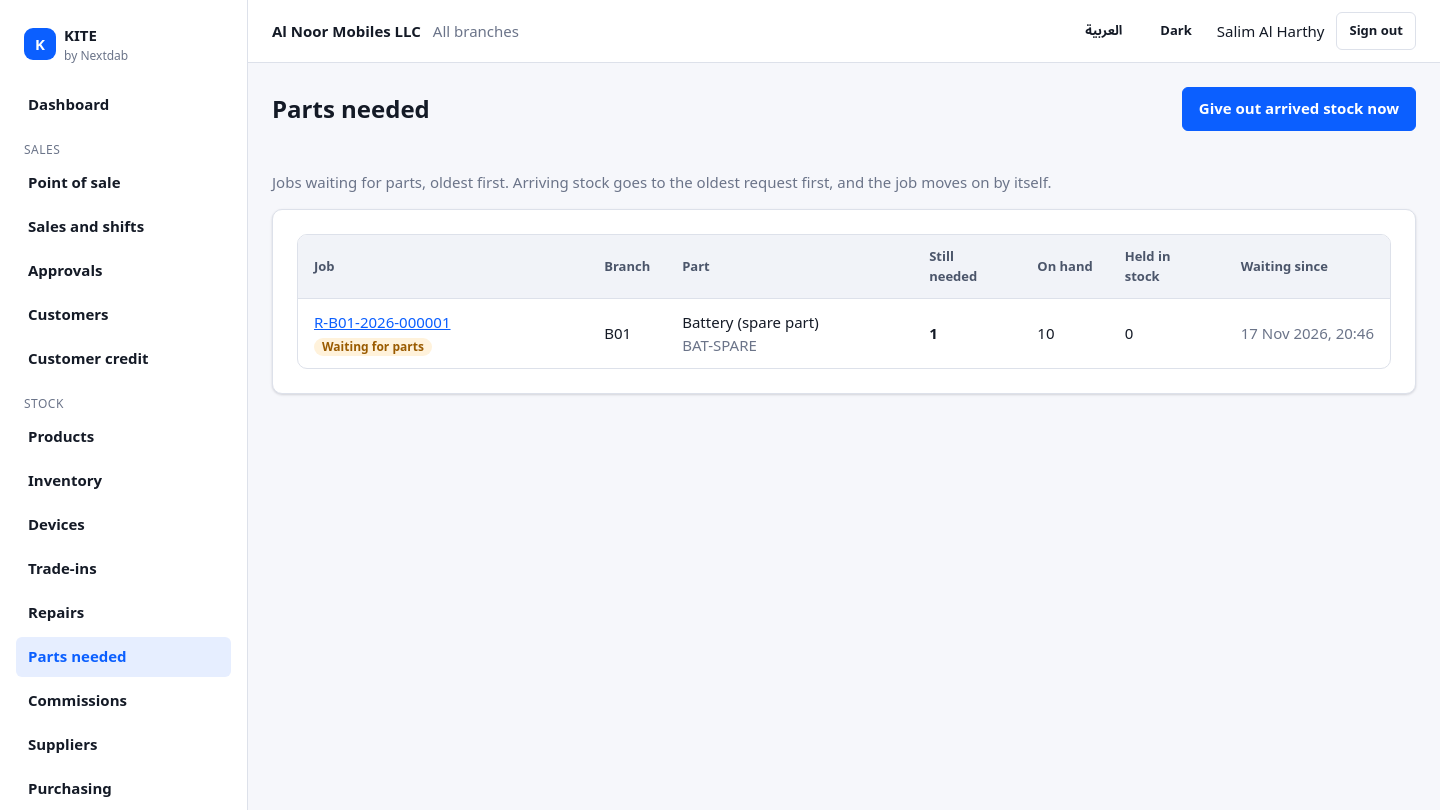
Test: parts on repair jobs (Phase 9) › a job short of parts waits for them, is listed as needing parts, and moves on when they arrive
The width and height of the screenshot is (1440, 810).
Later steps or results of the test are not shown.
Expected: the heading "Parts needed" is shown, top-left (272, 94), bottom-right (430, 124)
Click the button "Give out arrived stock now" at (1299, 108), box top-left (1182, 86), bottom-right (1416, 130)
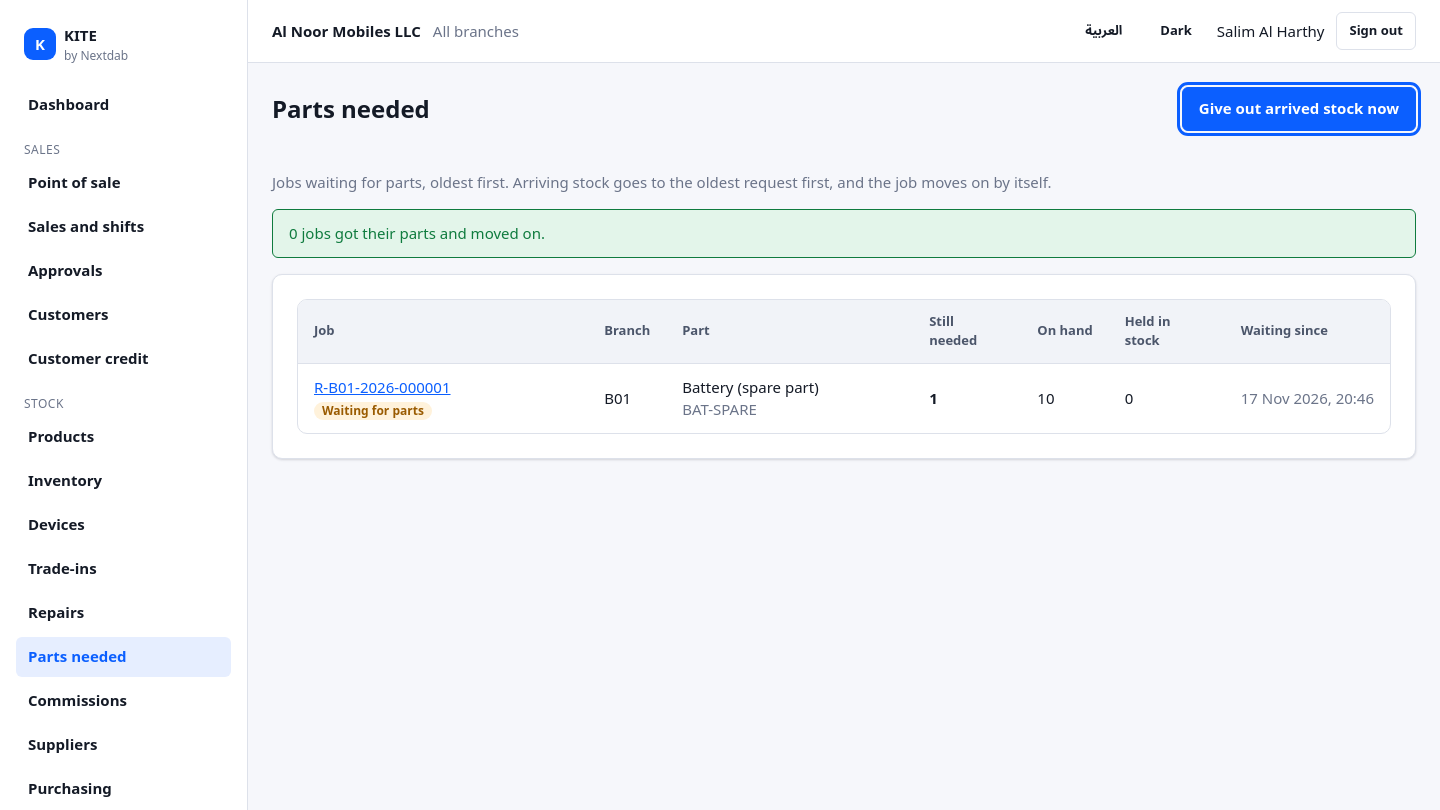
Expected: the text "0 jobs got their parts and moved on." is shown, top-left (272, 209), bottom-right (1416, 258)
